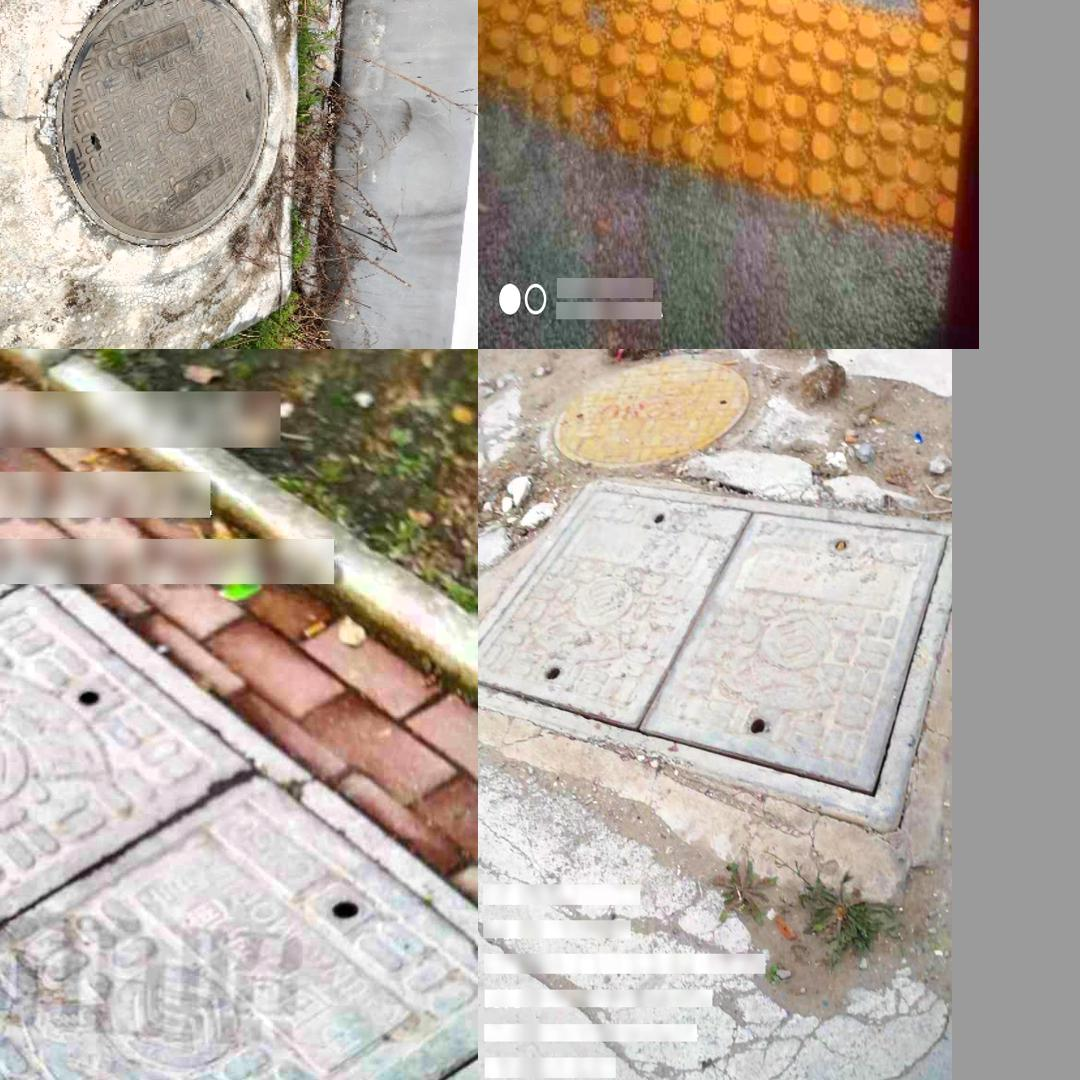good: (0, 559, 478, 1080), (478, 477, 952, 831), (57, 0, 266, 246), (552, 355, 750, 468)
